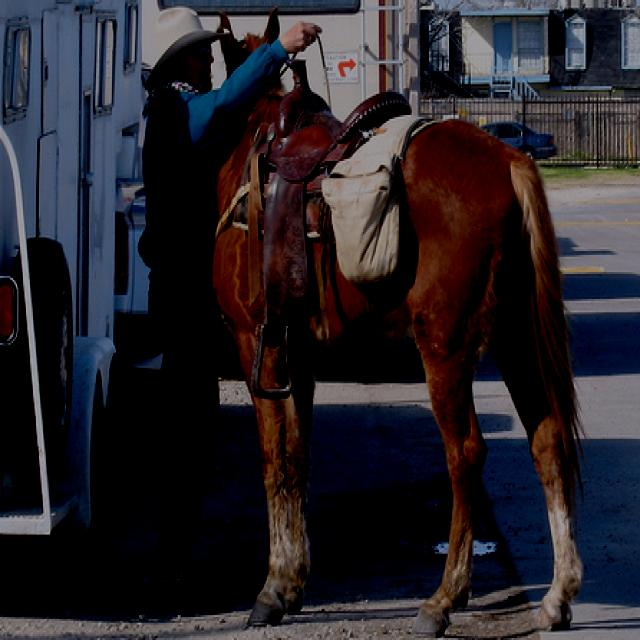Vehicle: (119, 0, 422, 316), (0, 0, 140, 588), (116, 174, 150, 352), (483, 124, 558, 160)
